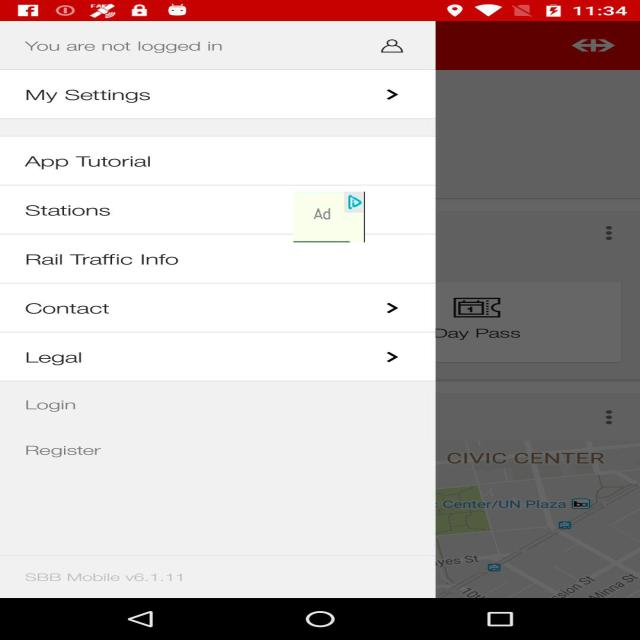sneaking: (293, 192, 365, 242)
